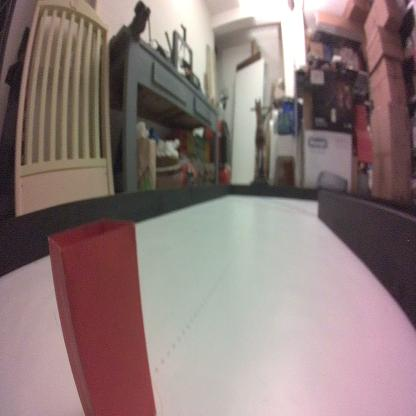red: (46, 216, 158, 416)
